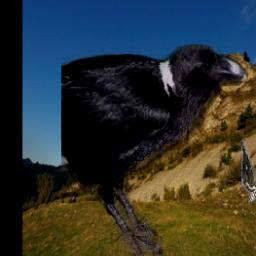Crow: (61, 43, 248, 256)
Woodpecker: (240, 136, 256, 202)
